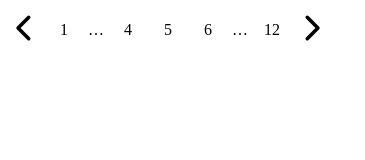
Pagination › moves with page buttons and arrows (uncontrolled) and reports each change
Step 1. Click the button named "Next page" → [312, 28], box [292,8,332,48]
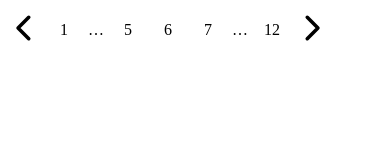
Expected: the button named "Page 6" is marked as current, [148,10,188,50]
Step 2. Click the button named "Page 12" → [272, 30], box [252,10,292,50]
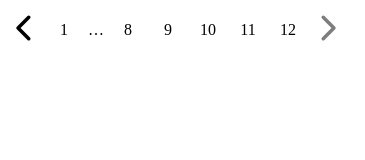
Expected: the button named "Next page" is disabled, [308,8,348,48]
